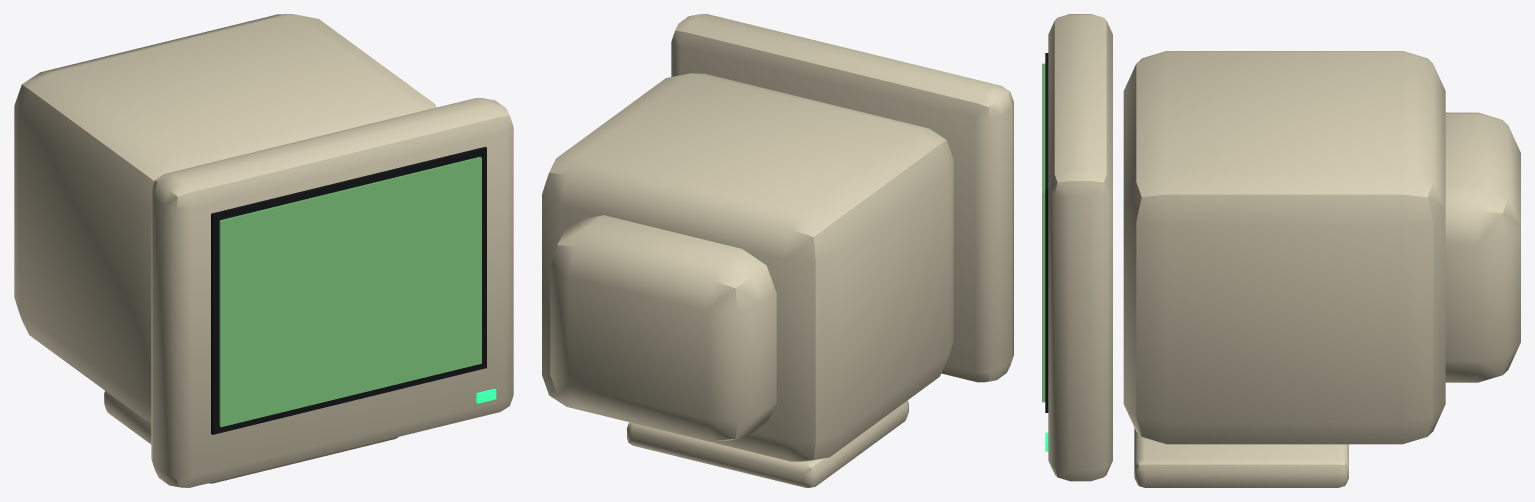
The model's file is crt.glb.
The picture shows the model from 3 angles, left to right: view 1: azimuth 30°, elevation 25°; view 2: azimuth 150°, elevation 25°; view 3: azimuth 270°, elevation 25°; orthographic projection. The views are drawn at different scales.
Parts seen in each view (by area): view 1: crt, screen; view 2: crt; view 3: crt, screen.
Part boxes in pixels (left/top/right/bottom): crt: left=14, top=14, right=513, bottom=487; screen: left=219, top=157, right=481, bottom=427; crt: left=542, top=14, right=1013, bottom=487; crt: left=1045, top=14, right=1520, bottom=487; screen: left=1042, top=63, right=1045, bottom=402.
Bounding box in the file's own units: 0.38 × 0.36 × 0.446.
